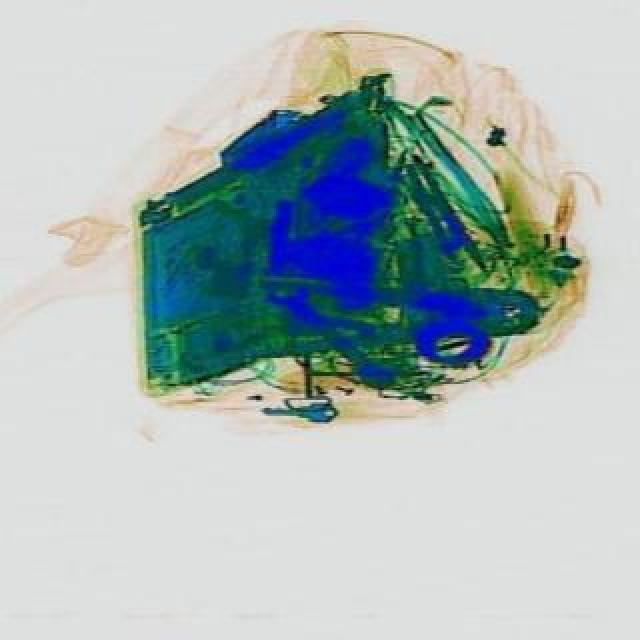scissors: (260, 270, 400, 398)
wrench: (248, 272, 538, 358)
